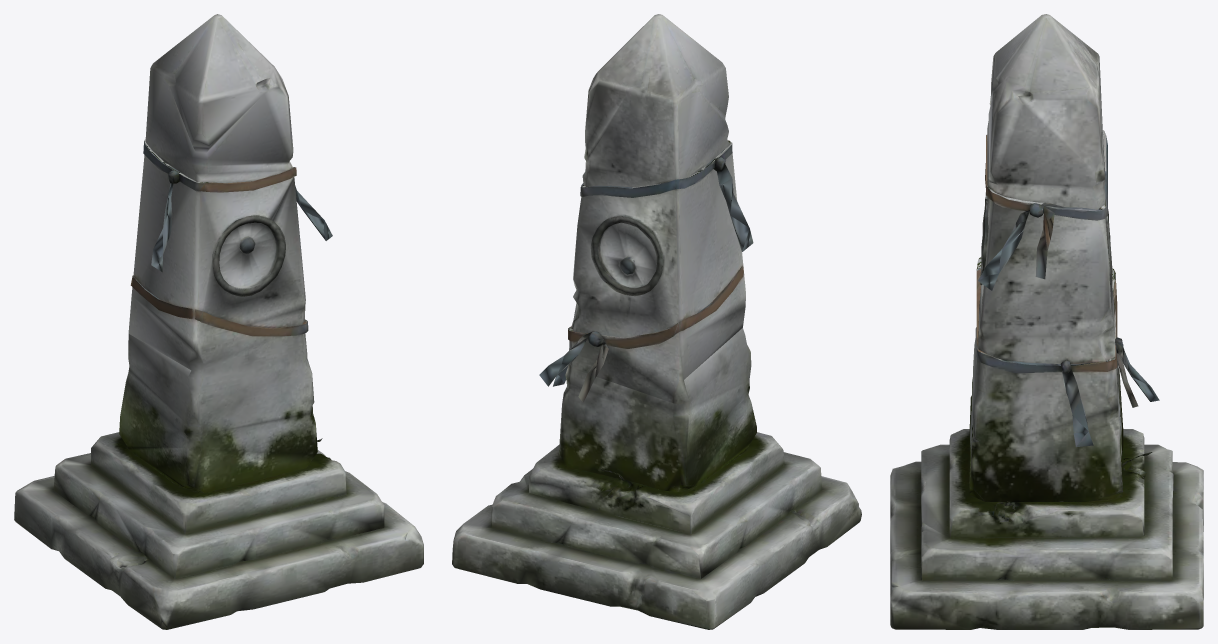
Rendered from obj_obelisk.glb.
The picture shows the model from 3 angles, left to right: view 1: azimuth 30°, elevation 25°; view 2: azimuth 150°, elevation 25°; view 3: azimuth 270°, elevation 25°; orthographic projection. The views are drawn at different scales.
Parts seen in each view (by area): view 1: model; view 2: model; view 3: model.
Part boxes in pixels (x1,y1,x2,y2): model: (14, 14, 423, 629); model: (452, 14, 861, 629); model: (890, 14, 1203, 629).
Size of the model in its own units: 0.5186 by 1 by 0.5186.
Materials: 1 (1 with a texture image).
